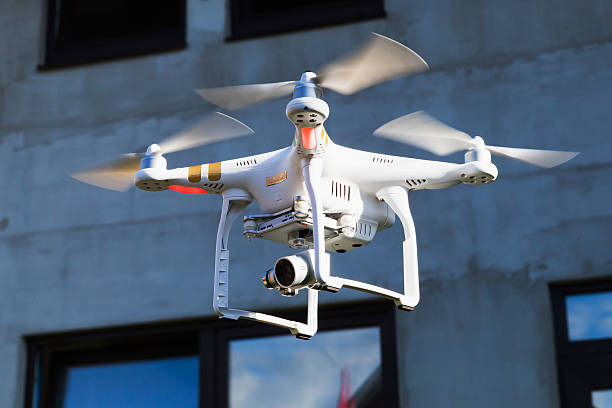Drone: (65, 29, 582, 344)
